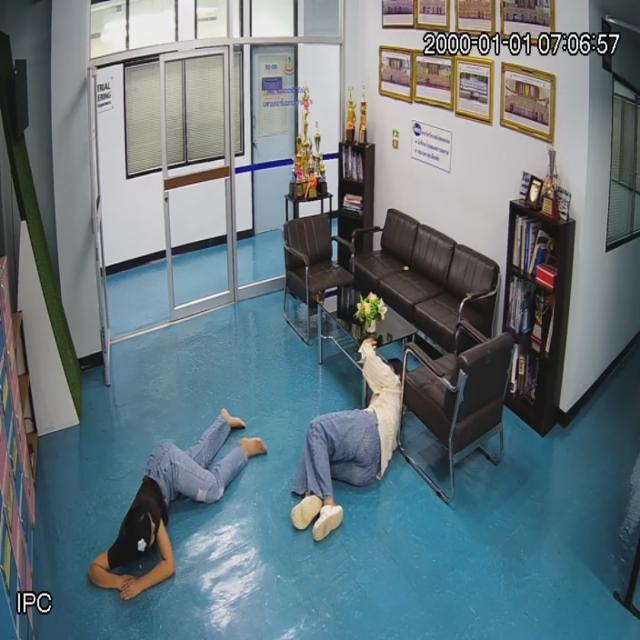fall: (94, 406, 268, 596), (296, 361, 406, 530)
